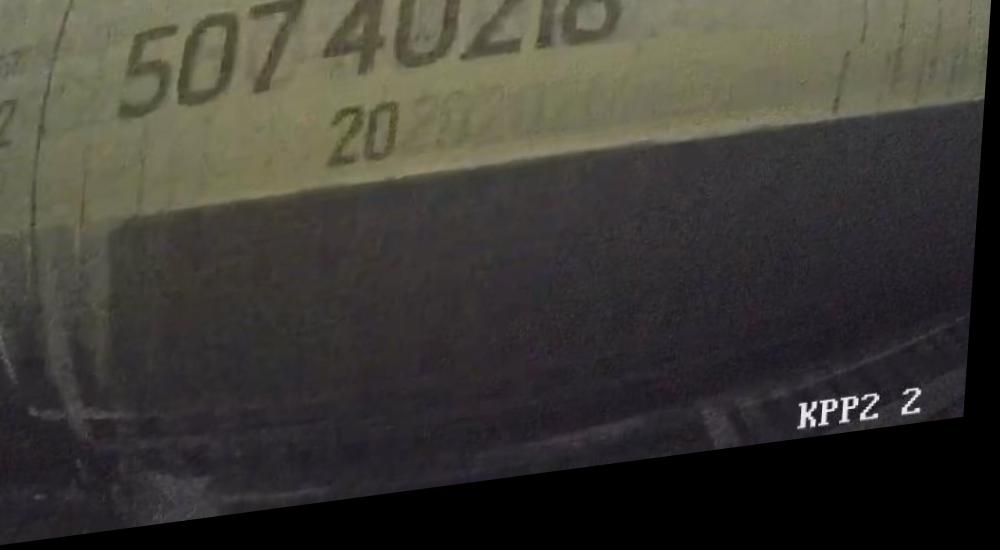Wagon-number: (111, 0, 635, 129)
